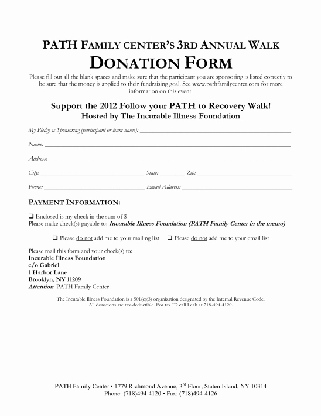checkbox: (51, 233, 59, 242), (27, 213, 35, 220), (165, 234, 173, 241)
textline: (43, 137, 294, 149), (46, 152, 294, 163), (138, 121, 293, 135), (180, 179, 295, 191), (196, 165, 294, 178), (39, 166, 145, 178), (43, 180, 147, 191), (125, 211, 187, 221), (158, 167, 185, 177)
